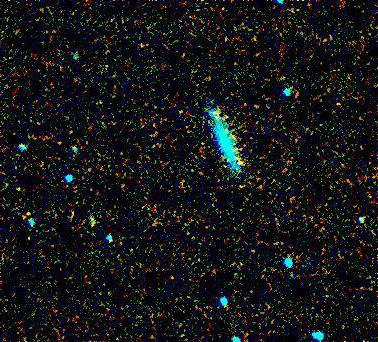star: (12, 204, 42, 234)
